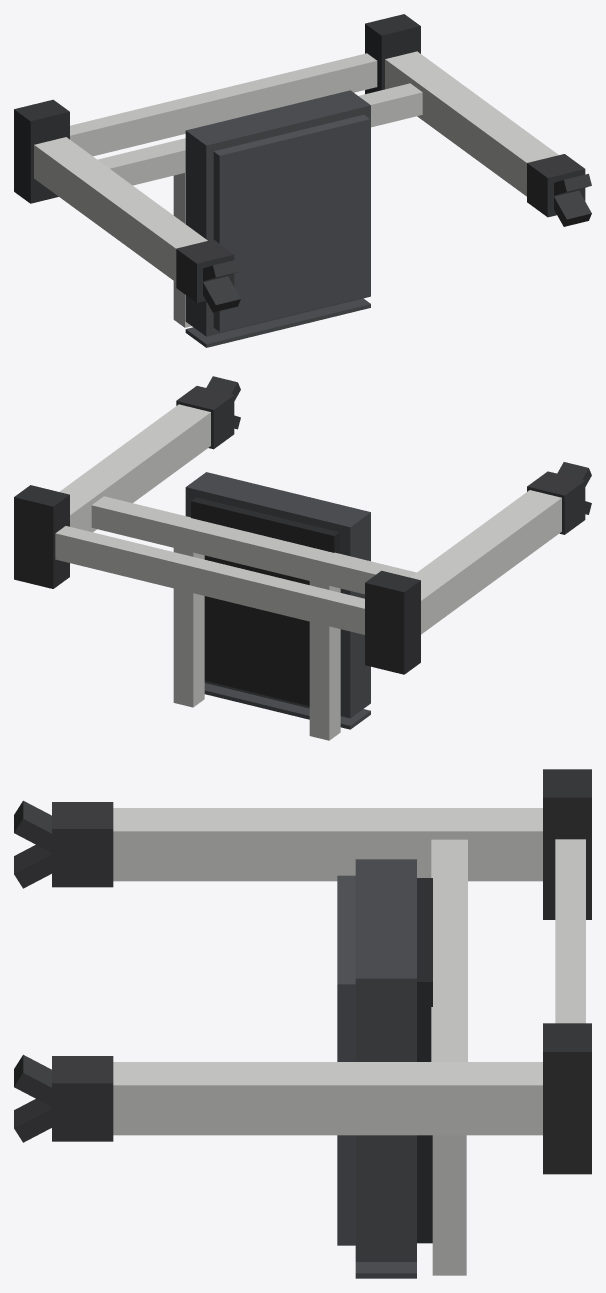
The model's file is section-4.obj.
3 renders of one model, top to bottom at view 1: azimuth 30°, elevation 25°; view 2: azimuth 150°, elevation 25°; view 3: azimuth 270°, elevation 25°, orthographic. The views are drawn at different scales.
Bounding box in the file's own units: 1.09 × 0.555 × 0.9421.
1 material, 1 textured.
